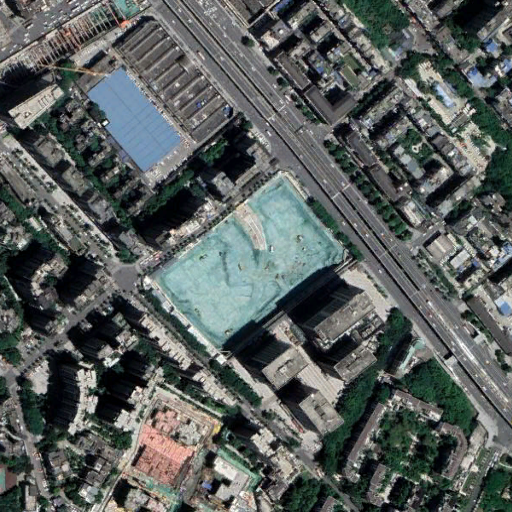cw: (147, 169, 347, 357)
